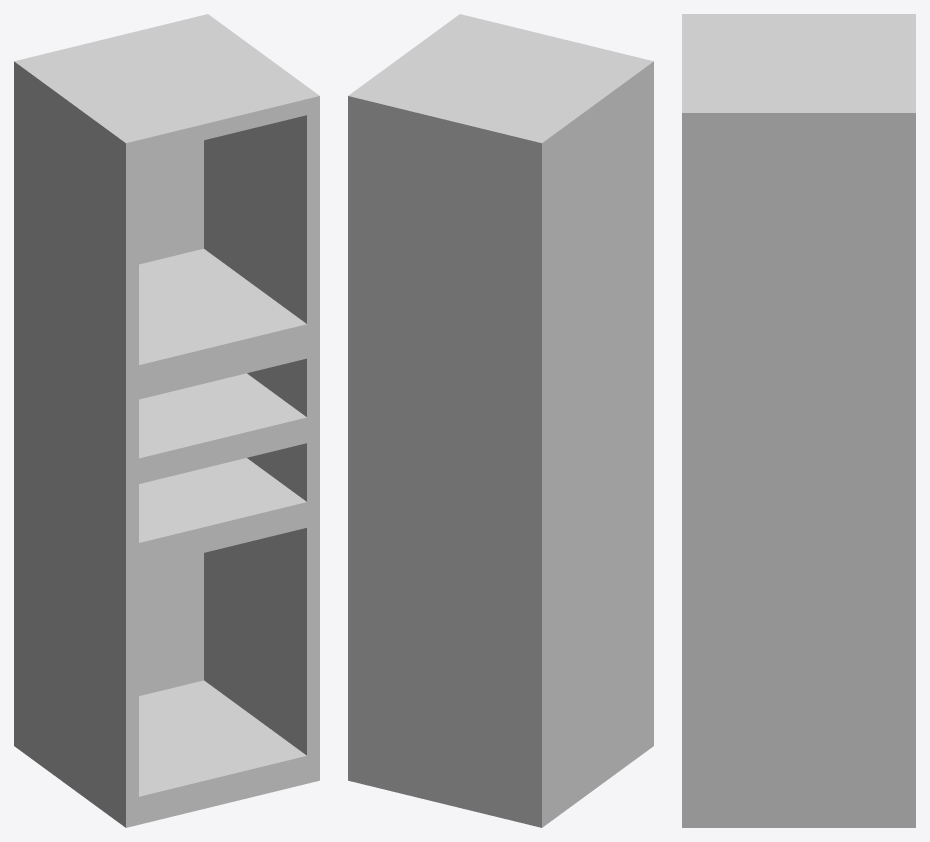
The model's file is drawer_6.glb.
The picture shows the model from 3 angles, left to right: view 1: azimuth 30°, elevation 25°; view 2: azimuth 150°, elevation 25°; view 3: azimuth 270°, elevation 25°; orthographic projection. The views are drawn at different scales.
Parts seen in each view (by area): view 1: Drawer-Cabinet; view 2: Drawer-Cabinet; view 3: Drawer-Cabinet.
Boxes of the visible parts, x1,y1,x2,y2 form: Drawer-Cabinet: (14,14,319,827); Drawer-Cabinet: (348,14,653,827); Drawer-Cabinet: (682,14,915,827).
Bounding box in the file's own units: 0.6 × 2.02 × 0.5998.
Materials: 1 (1 with a texture image).
